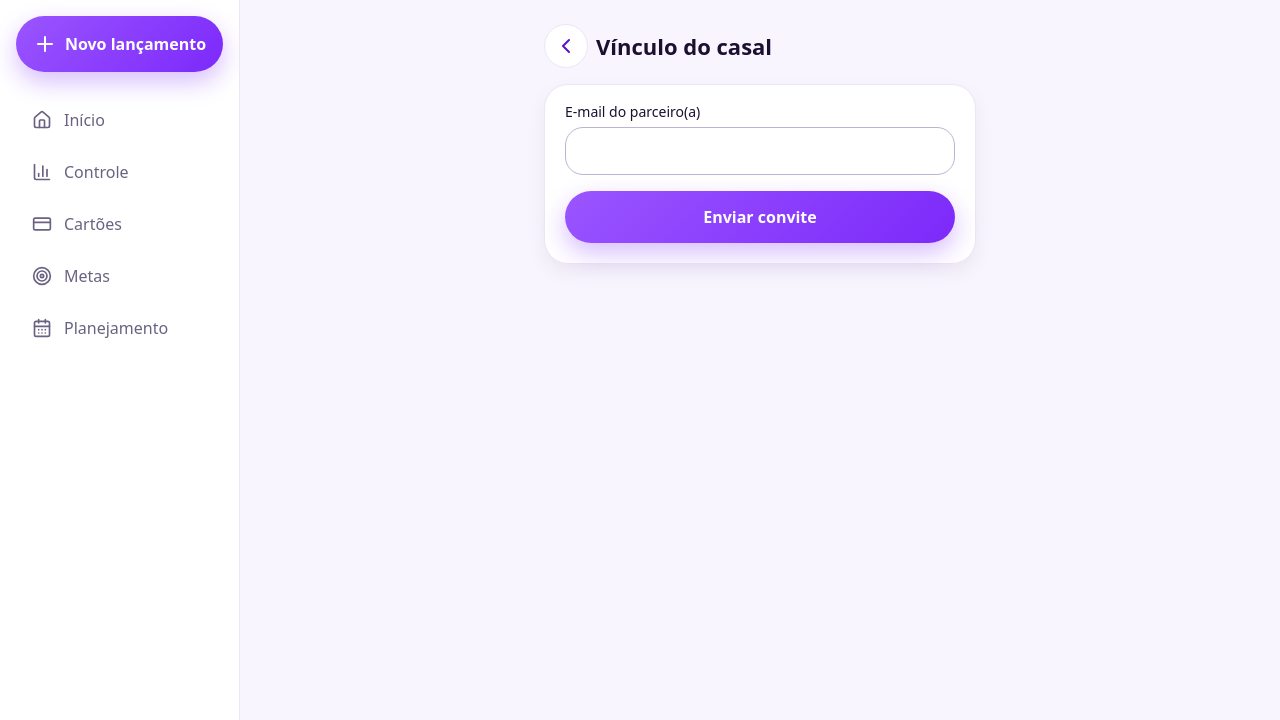
Scenario: Vinculo - ações › erro de convite sem campo vira alerta geral
In the field labelled "E-mail do parceiro(a)": (760, 151) [565,127,955,175], type "x@exemplo.com"
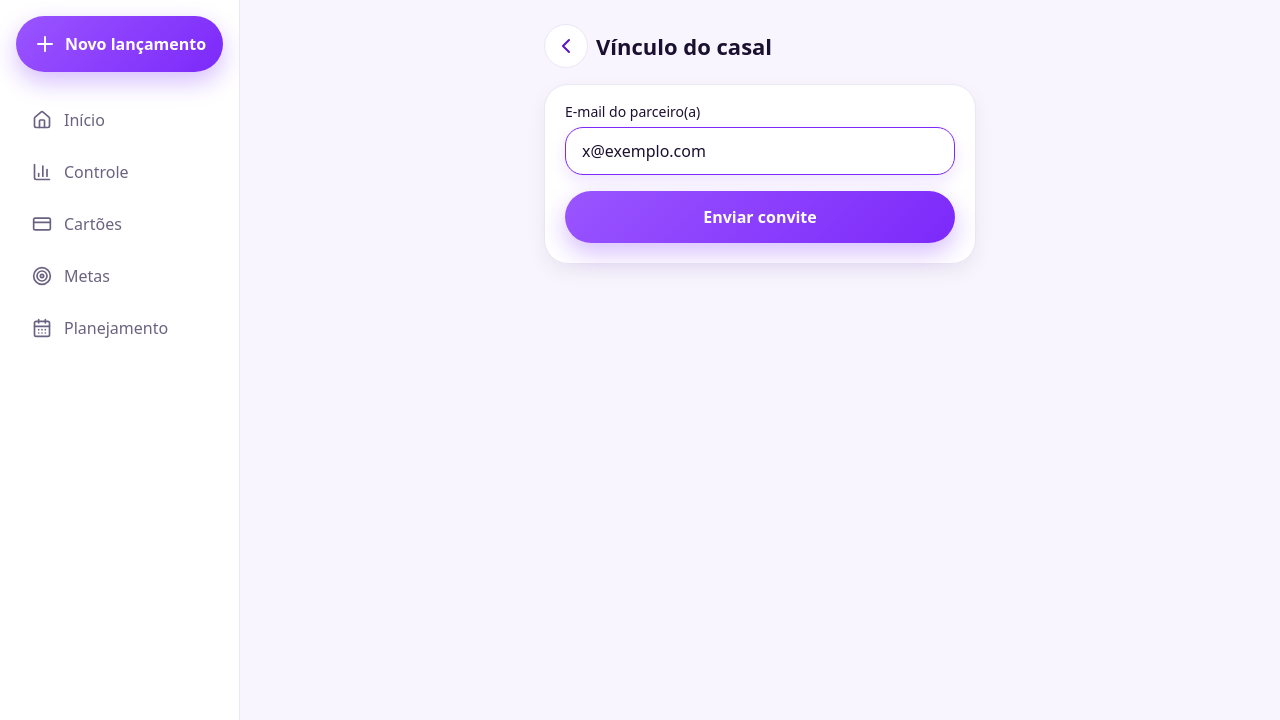
Click the button "Enviar convite": (760, 217) [565,191,955,243]
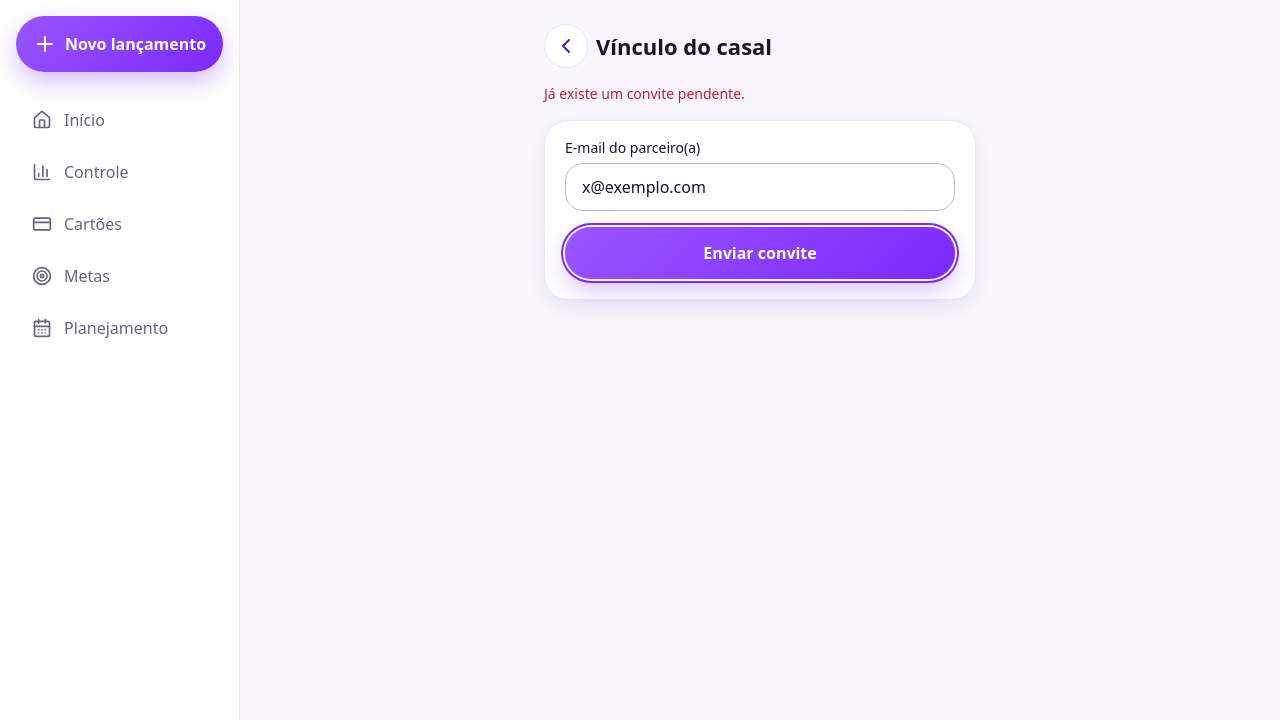
Expected: the message reads "Já existe um convite pendente.", [544,84,745,103]
